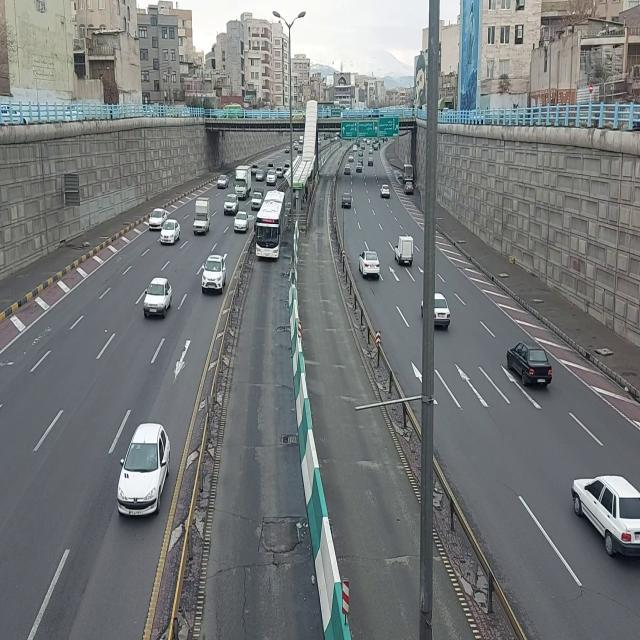Bus: (254, 189, 286, 261)
Car: (568, 470, 640, 564), (118, 420, 172, 522), (506, 339, 554, 390), (142, 270, 174, 321), (203, 255, 229, 297), (433, 289, 451, 333), (357, 250, 383, 278), (159, 216, 183, 246), (149, 206, 169, 228), (234, 210, 250, 236), (223, 192, 239, 217), (342, 191, 353, 211), (266, 169, 278, 187), (217, 175, 229, 191), (380, 184, 390, 200), (404, 181, 414, 196), (256, 168, 266, 182), (276, 165, 284, 179), (356, 162, 364, 172), (252, 164, 259, 175), (344, 164, 351, 175), (368, 157, 375, 167), (284, 164, 290, 175), (349, 153, 355, 163), (284, 144, 290, 154), (298, 145, 304, 154), (352, 144, 358, 152), (359, 148, 364, 156), (369, 147, 374, 155), (358, 157, 364, 163), (375, 168, 376, 169)
Motorcycle: (378, 141, 382, 151)
Pickup: (394, 234, 416, 270), (193, 194, 211, 236), (299, 135, 303, 145)
Truck: (233, 165, 252, 199)
